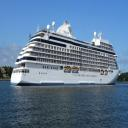cruises: (10, 20, 123, 90)
